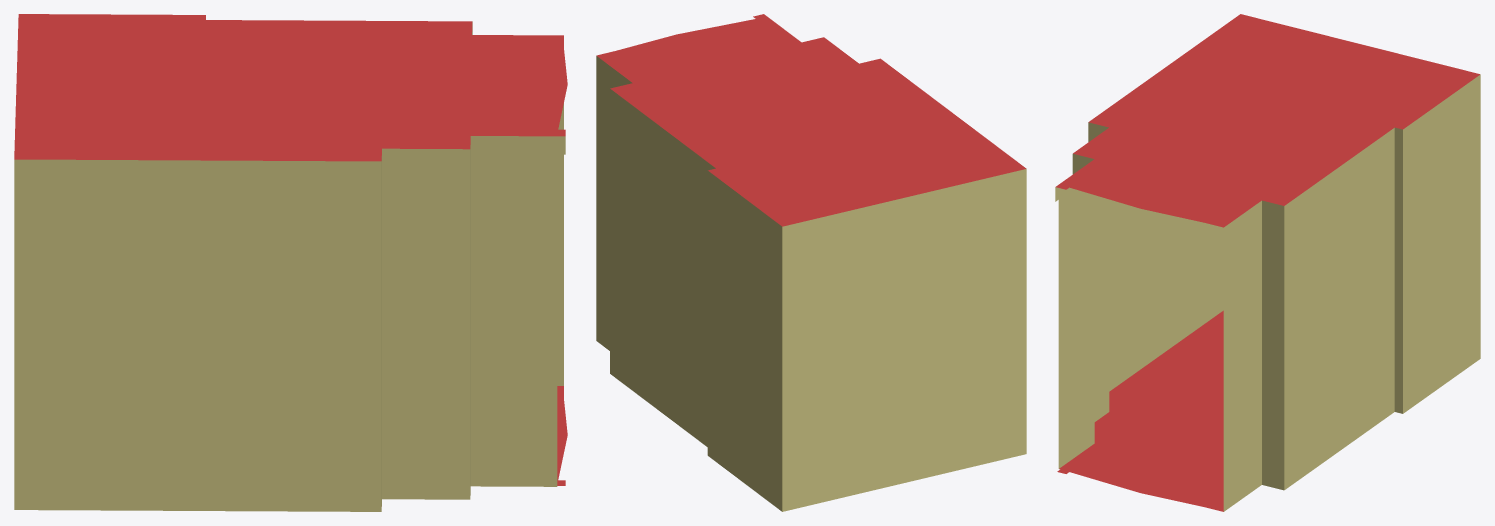
3 renders of one model, left to right at view 1: azimuth 30°, elevation 25°; view 2: azimuth 150°, elevation 25°; view 3: azimuth 270°, elevation 25°, orthographic. The views are drawn at different scales.
Visible parts, largest first — view 1: group_4, group_3, group_5; view 2: group_4, group_3; view 3: group_4, group_3, group_5.
Boxes of the visible parts, <box> form: group_4: <box>14,21,565,511</box>; group_3: <box>14,14,567,161</box>; group_5: <box>557,386,567,485</box>; group_4: <box>596,56,1026,511</box>; group_3: <box>596,14,1026,226</box>; group_4: <box>1055,74,1480,511</box>; group_3: <box>1056,14,1479,227</box>; group_5: <box>1057,310,1223,511</box>.
Bounding box in the file's own units: 19.63 × 16.53 × 12.19.
